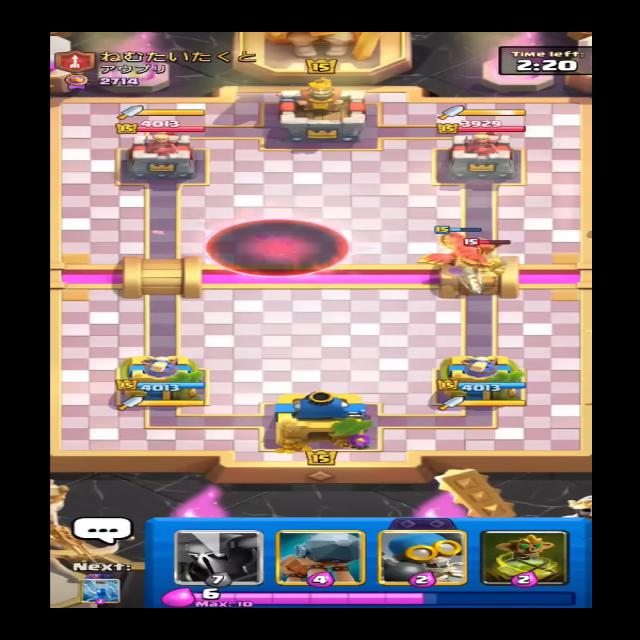prince: (459, 243, 517, 290)
